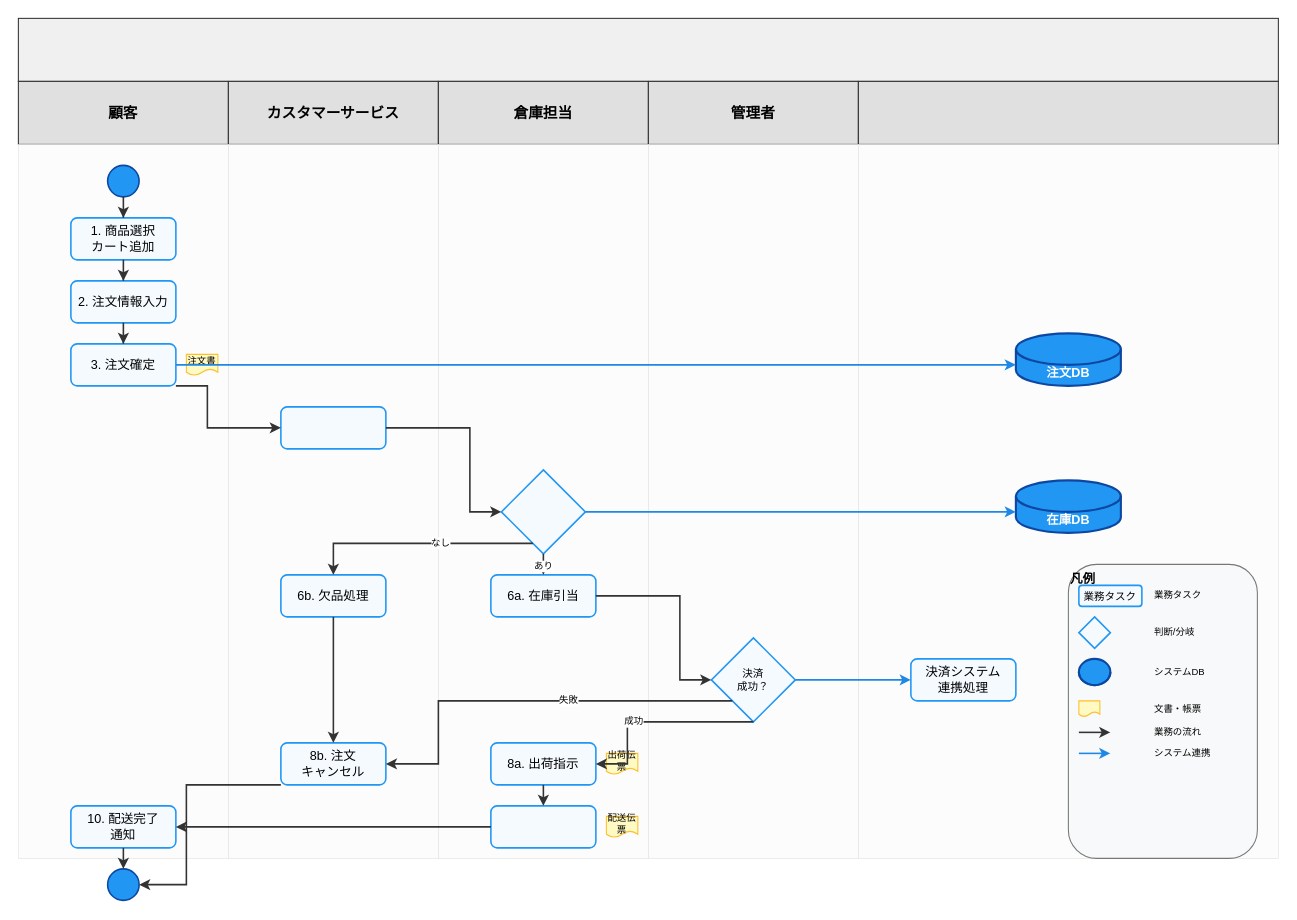
Some shapes in this 1297 by 920 pixel diagram are drawn without their labels. The shapes that lost their labels are listed below. From the top down, each one's centre as x and y in pixels, then its label:
At [647,49]: "ECサイト注文処理業務フロー 作成日：2024-12-01 バージョン：1.0".
At [1067,112]: "システム".
At [122,180]: "開始".
At [333,427]: "4. 注文受付確認".
At [543,511]: "在庫 あり？".
At [1094,632]: "判断".
At [1094,671]: "DB".
At [1089,708]: "文書".
At [543,826]: "9. 商品発送".
At [122,884]: "終了".
